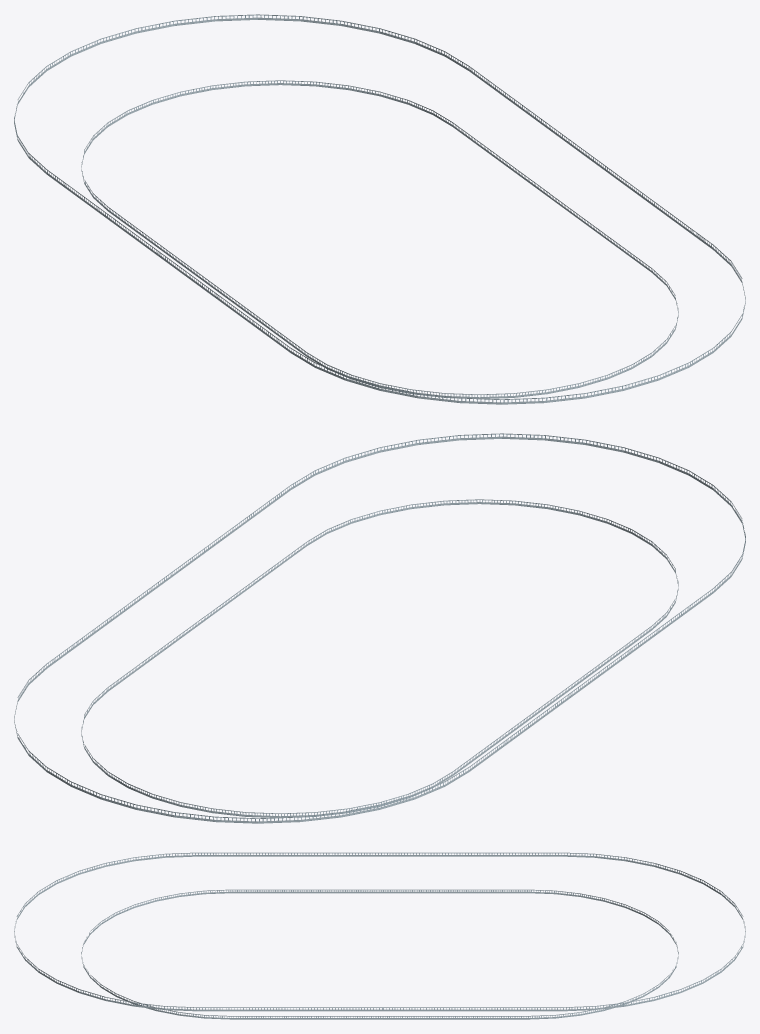
The model's file is Mesh_Battle_Match_Railing.fbx.
3 views of the same model, one above another, from view 1: azimuth 30°, elevation 25°; view 2: azimuth 150°, elevation 25°; view 3: azimuth 270°, elevation 25° (orthographic). The views are drawn at different scales.
Visible parts, largest first — view 1: Mesh_Battle_Match_Railing; view 2: Mesh_Battle_Match_Railing; view 3: Mesh_Battle_Match_Railing.
Part boxes in pixels (bbox=[...]): Mesh_Battle_Match_Railing: bbox=[14, 14, 745, 404]; Mesh_Battle_Match_Railing: bbox=[14, 433, 745, 823]; Mesh_Battle_Match_Railing: bbox=[14, 852, 745, 1019].
Size of the model in its own units: 15862 by 1272 by 31724.
